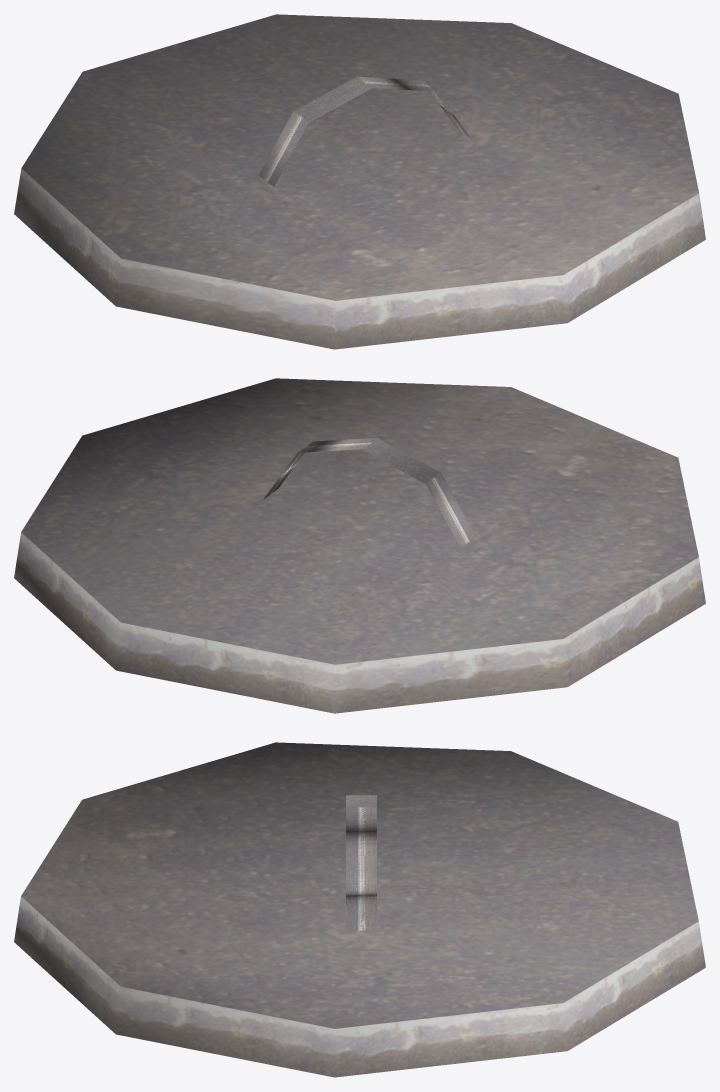
The model's file is M_Home_Garden_Pan_Cooking_Pan_Lit2.fbx.
The picture shows the model from 3 angles, top to bottom: view 1: azimuth 30°, elevation 25°; view 2: azimuth 150°, elevation 25°; view 3: azimuth 270°, elevation 25°; orthographic projection.
Parts seen in each view (by area): view 1: M_Home_Garden_Pan_Cooking_Pan_Lit2; view 2: M_Home_Garden_Pan_Cooking_Pan_Lit2; view 3: M_Home_Garden_Pan_Cooking_Pan_Lit2.
Part boxes in pixels (bbox=[...]): M_Home_Garden_Pan_Cooking_Pan_Lit2: bbox=[14, 14, 705, 349]; M_Home_Garden_Pan_Cooking_Pan_Lit2: bbox=[14, 378, 705, 713]; M_Home_Garden_Pan_Cooking_Pan_Lit2: bbox=[14, 742, 705, 1077].
Size of the model in its own units: 34.41 by 6.62 by 34.41.
